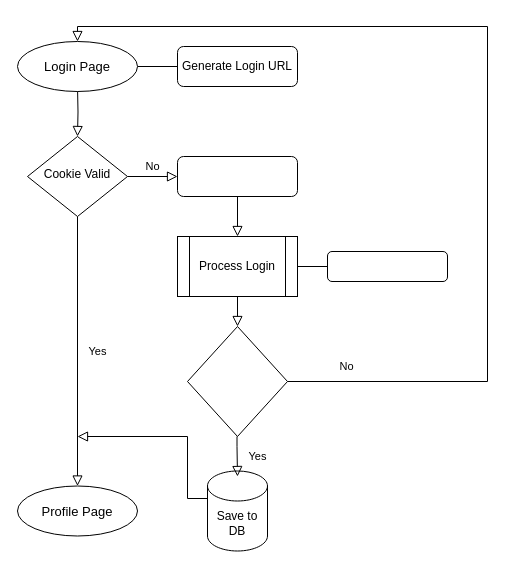
This 515x569 diagram has some shape labels left out. Here are the shapes that lost their labels. From the top down, the box of each, then its label:
(176, 156, 298, 196): Oauth Login
(326, 250, 448, 282): Get Token
(186, 326, 288, 436): Valid Token & Domain
